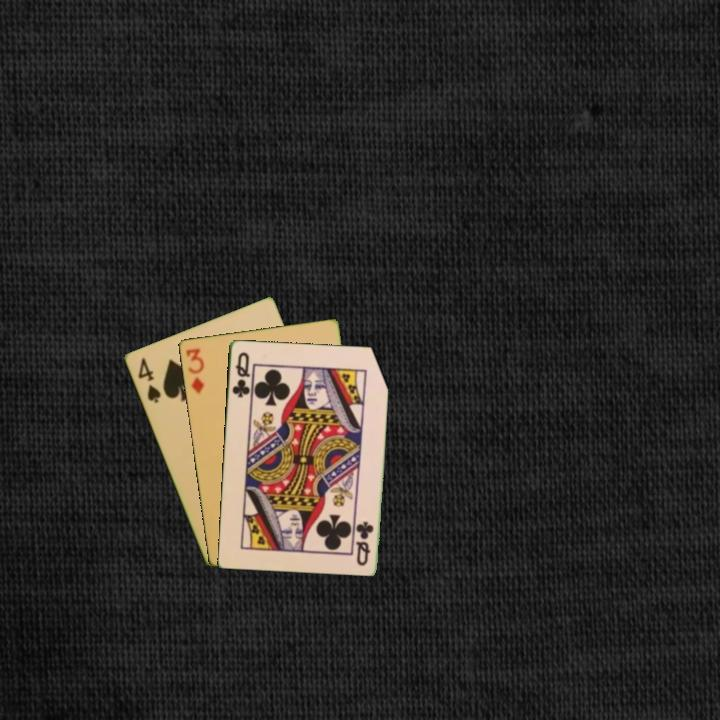3d: (182, 345, 207, 396)
4s: (134, 354, 164, 406)
Qc: (229, 348, 253, 400), (353, 518, 376, 568)
